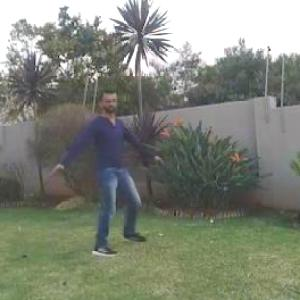land: (41, 71, 168, 280)
